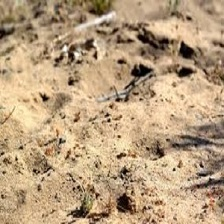sandy_soil: (7, 18, 211, 208)
